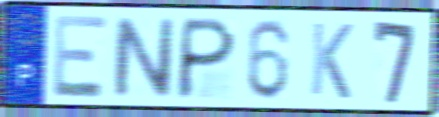6: (245, 15, 292, 104)
7: (372, 17, 417, 106)
E: (51, 12, 111, 100)
K: (307, 19, 355, 102)
N: (111, 14, 176, 100)
P: (172, 15, 240, 102)
